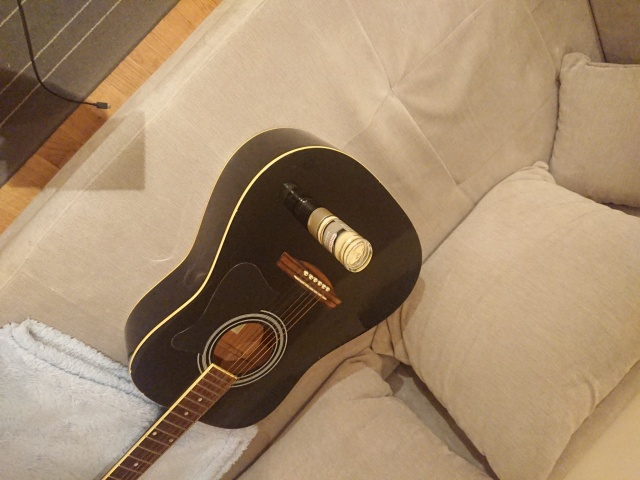Kotanyi Garlic Granules 70g: (304, 204, 374, 276)
